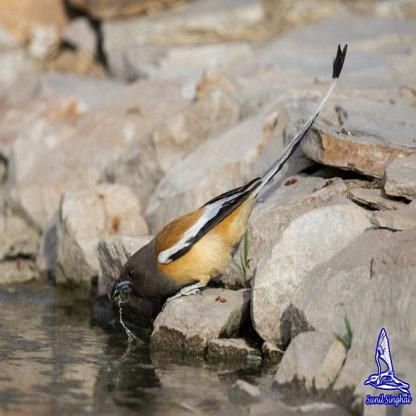Burung: (110, 43, 348, 298)
